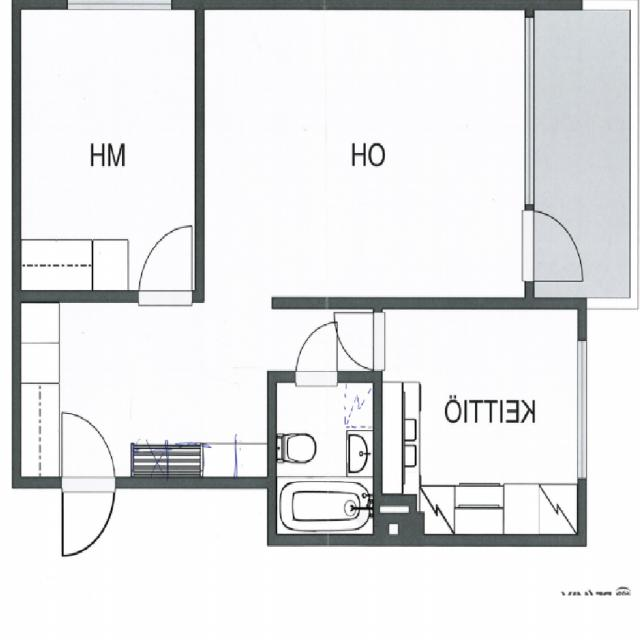door: (62, 476, 116, 559), (62, 405, 116, 488), (139, 220, 193, 302), (526, 210, 588, 281), (329, 312, 383, 369), (295, 316, 338, 382)
